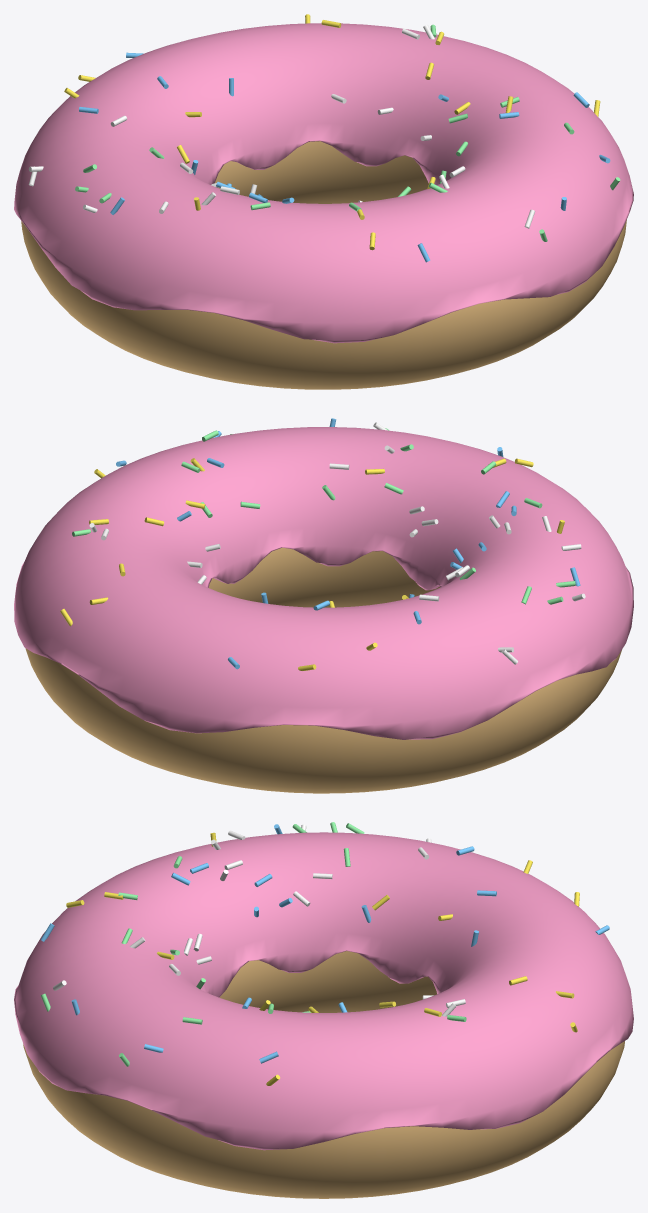
Rendered from Donut.fbx.
The picture shows the model from 3 angles, top to bottom: view 1: azimuth 30°, elevation 25°; view 2: azimuth 150°, elevation 25°; view 3: azimuth 270°, elevation 25°; orthographic projection.
Parts seen in each view (by area): view 1: Donut_Icing, Donut_Dough; view 2: Donut_Icing, Donut_Dough; view 3: Donut_Icing, Donut_Dough.
Part boxes in pixels (x1,y1,x2,y2): Donut_Icing: (14,23,633,343); Donut_Dough: (21,141,626,389); Donut_Icing: (14,427,633,739); Donut_Dough: (25,547,621,793); Donut_Icing: (14,832,633,1150); Donut_Dough: (23,951,624,1198).
Bounding box in the file's own units: 2.9 × 0.9253 × 2.9.
